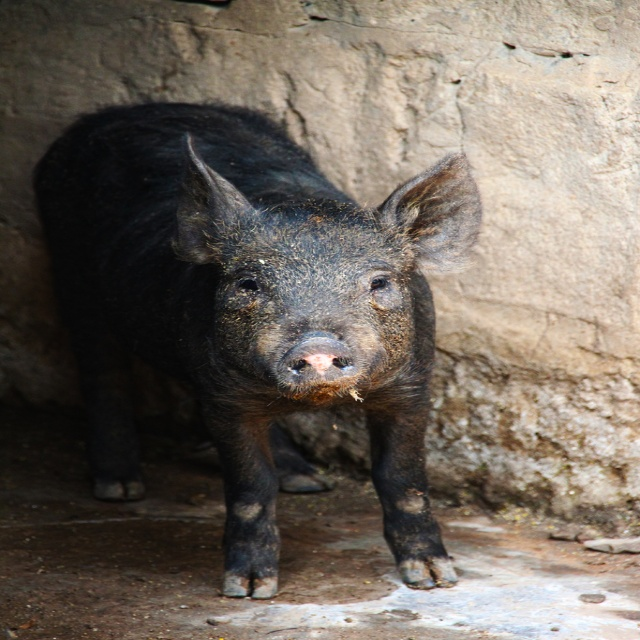Pig: (29, 98, 483, 601)
